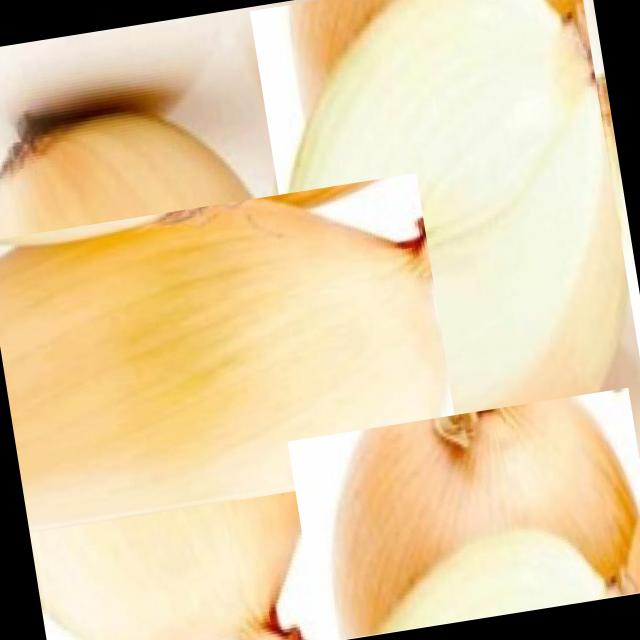Onion: (249, 0, 640, 508), (0, 116, 404, 603), (287, 387, 640, 640)
